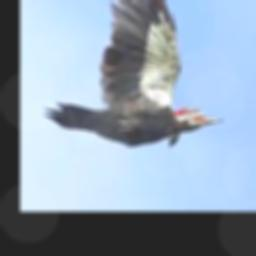Woodpecker: (42, 0, 224, 145)
